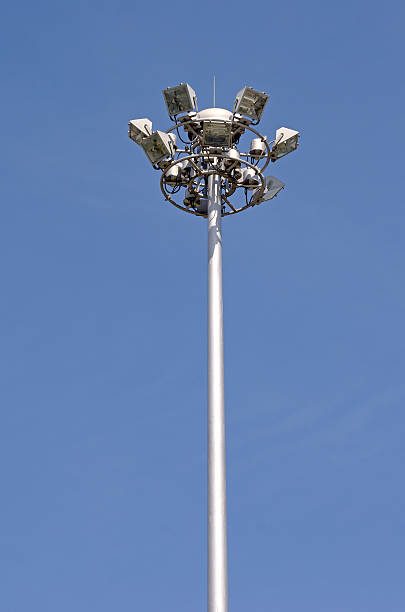light_pole: (204, 204, 232, 612)
